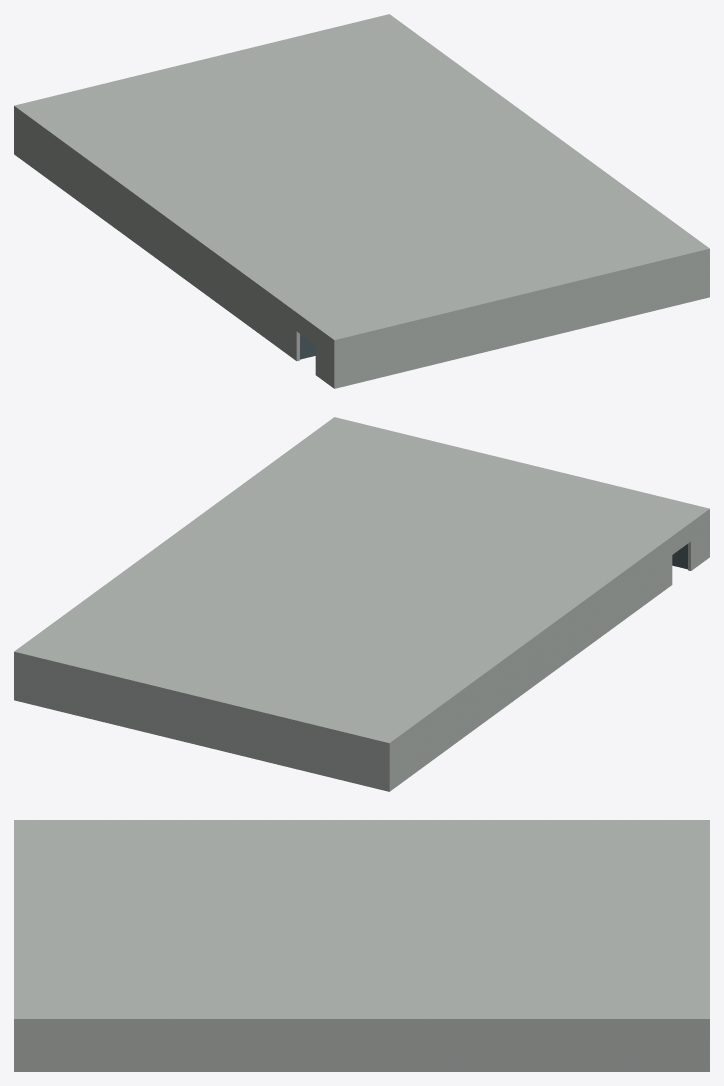
The model's file is SOL_D01_directory_10_remaining_r001.glb.
3 views of the same model, one above another, from view 1: azimuth 30°, elevation 25°; view 2: azimuth 150°, elevation 25°; view 3: azimuth 270°, elevation 25° (orthographic). The views are drawn at different scales.
Visible parts, largest first — view 1: Opaque_supported_ceiling, Aft_wall, West_fore, East_wall, West_aft, Fore_wall, Portal_lintel; view 2: Opaque_supported_ceiling, Fore_wall, West_fore, East_wall, West_aft; view 3: Opaque_supported_ceiling, East_wall, West_fore, Fore_wall, Aft_wall, Portal_lintel.
Part boxes in pixels (<box>): Opaque_supported_ceiling: <box>15,14,708,340</box>; Aft_wall: <box>337,248,706,387</box>; West_fore: <box>14,105,299,361</box>; East_wall: <box>386,14,709,297</box>; West_aft: <box>315,325,337,388</box>; Fore_wall: <box>18,15,387,105</box>; Portal_lintel: <box>296,308,335,344</box>; Opaque_supported_ceiling: <box>14,417,708,743</box>; Fore_wall: <box>17,651,386,790</box>; West_fore: <box>386,535,672,791</box>; East_wall: <box>14,417,337,700</box>; West_aft: <box>688,508,709,570</box>; Opaque_supported_ceiling: <box>14,820,709,1020</box>; East_wall: <box>14,1017,709,1071</box>; West_fore: <box>96,820,709,821</box>; Fore_wall: <box>706,821,709,1017</box>; Aft_wall: <box>14,821,17,1017</box>; Portal_lintel: <box>55,820,95,830</box>.
Bounding box in the file's own units: 46 × 5.7 × 68.
56 materials, 52 textured.
